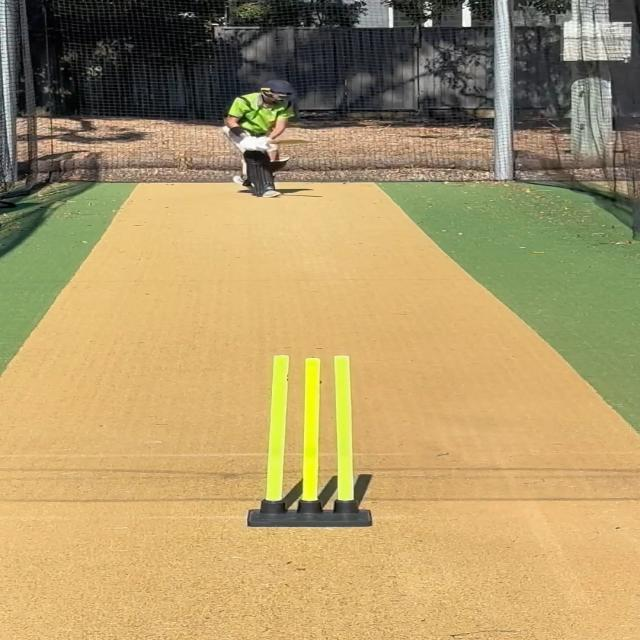stump: (248, 354, 373, 527)
